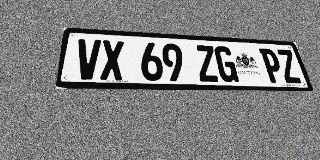6: (140, 42, 164, 81)
9: (161, 43, 185, 81)
G: (213, 46, 239, 82)
P: (259, 48, 286, 83)
V: (74, 39, 101, 80)
X: (100, 40, 124, 80)
Z: (275, 49, 303, 83), (195, 45, 220, 82)
